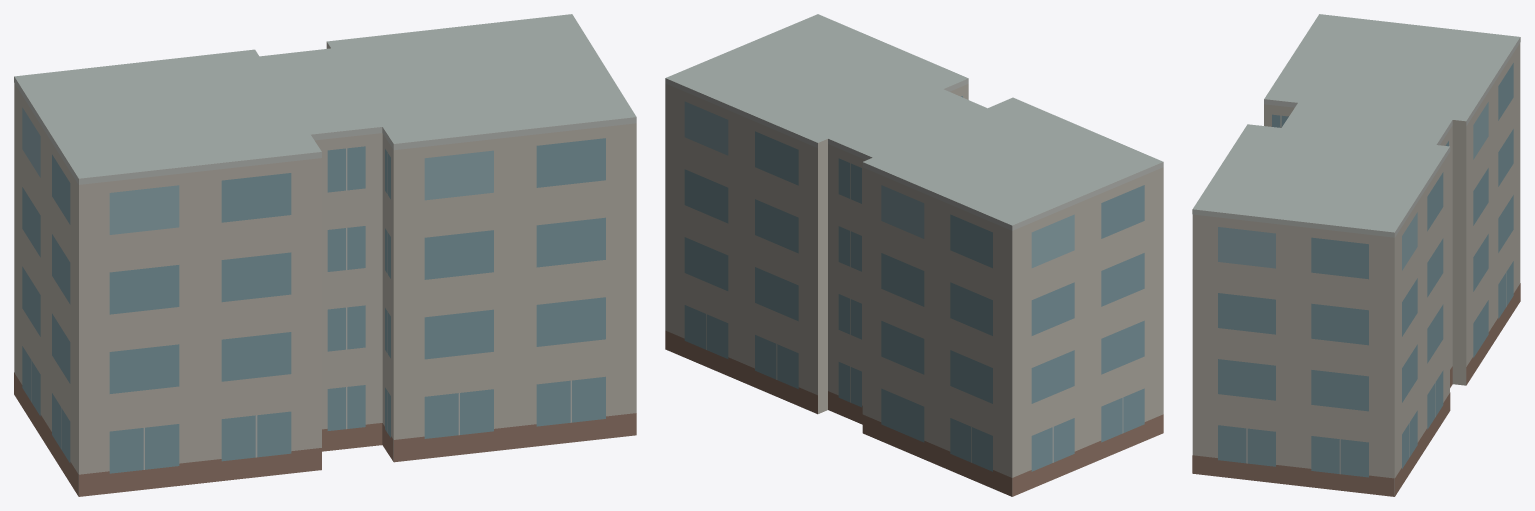
The model's file is survey-upis-32806389.glb.
3 views of the same model, side by side, from view 1: azimuth 30°, elevation 25°; view 2: azimuth 150°, elevation 25°; view 3: azimuth 270°, elevation 25° (orthographic). The views are drawn at different scales.
Parts seen in each view (by area): view 1: survey-upis-32806389.tmp; view 2: survey-upis-32806389.tmp; view 3: survey-upis-32806389.tmp.
Part boxes in pixels (x1,y1,x2,y2): survey-upis-32806389.tmp: [14, 14, 636, 496]; survey-upis-32806389.tmp: [665, 14, 1163, 496]; survey-upis-32806389.tmp: [1192, 14, 1520, 496].
Bounding box in the file's own units: 22.17 × 12.5 × 14.06.
